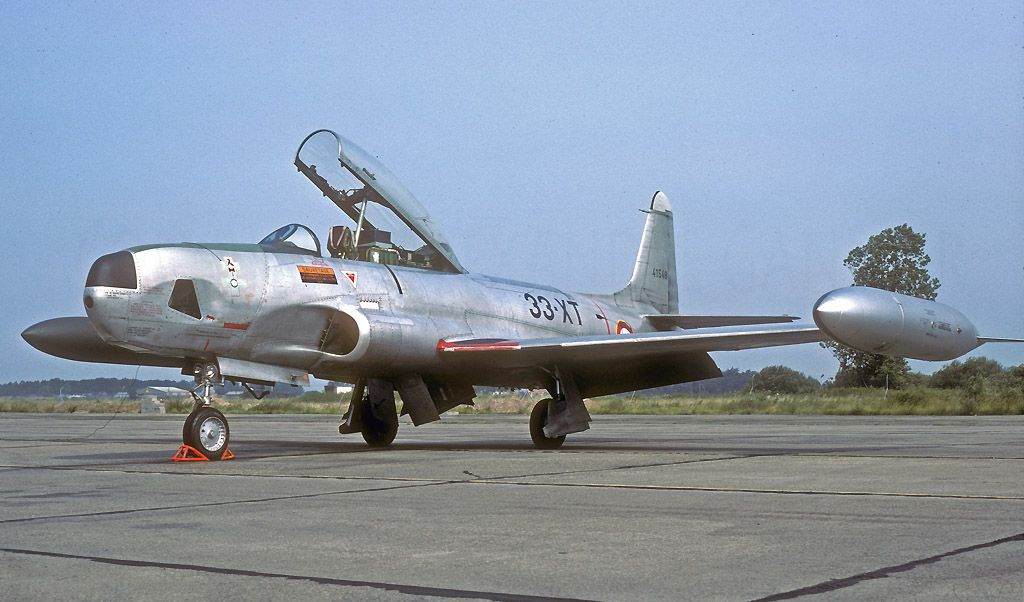Aeronef_militaire: (13, 115, 1024, 470)
